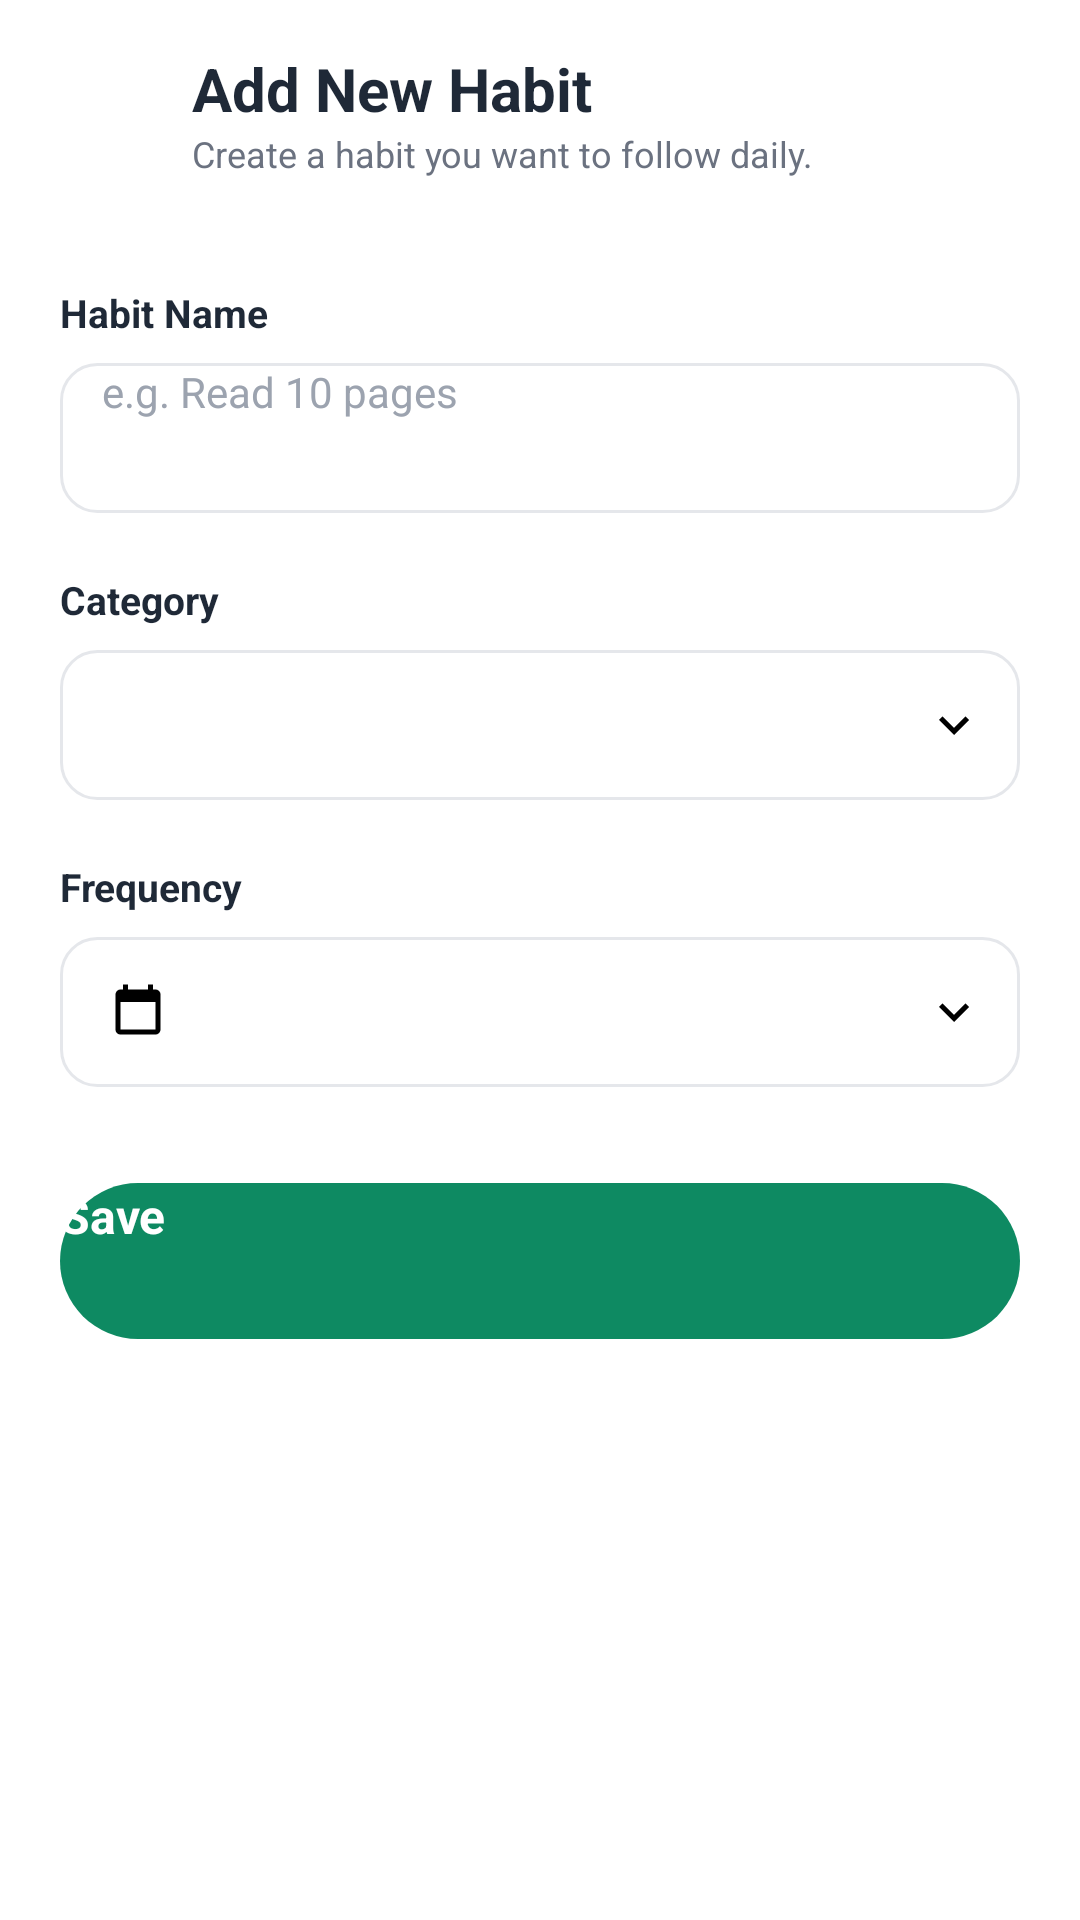

Point at icon controls on the screen. Image size 1080 × 1920, points as [x,y].
calendar: [138,1009]
expand: [954,725], [954,1012]
